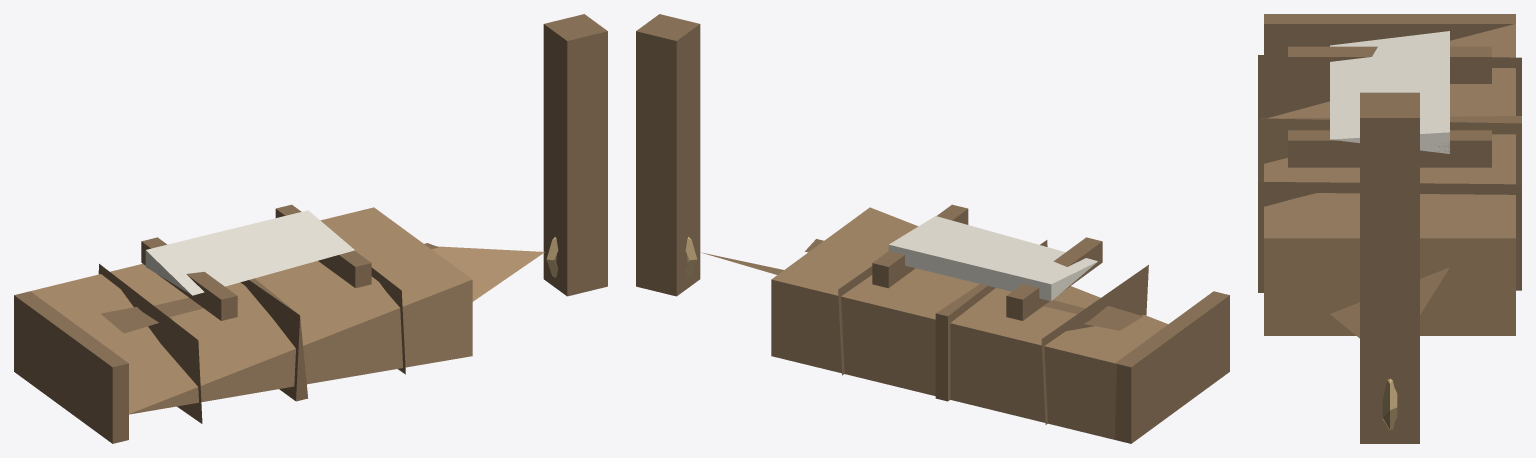
The model's file is 40-Infraestructura_bote_pesca.glb.
3 views of the same model, side by side, from view 1: azimuth 30°, elevation 25°; view 2: azimuth 150°, elevation 25°; view 3: azimuth 270°, elevation 25° (orthographic). The views are drawn at different scales.
Parts seen in each view (by area): view 1: SM_Bote_M_Madera_Bote, SM_Bote_M_Madera_Bote_Osc, SM_Bote_M_Tela_Bote; view 2: SM_Bote_M_Madera_Bote, SM_Bote_M_Madera_Bote_Osc, SM_Bote_M_Tela_Bote; view 3: SM_Bote_M_Madera_Bote_Osc, SM_Bote_M_Madera_Bote, SM_Bote_M_Tela_Bote, SM_Bote_M_Cuerda_Bote.
Part boxes in pixels (<box>): SM_Bote_M_Madera_Bote: <box>29,207,544,414</box>; SM_Bote_M_Madera_Bote_Osc: <box>14,14,607,443</box>; SM_Bote_M_Tela_Bote: <box>145,210,354,295</box>; SM_Bote_M_Madera_Bote: <box>700,207,1168,439</box>; SM_Bote_M_Madera_Bote_Osc: <box>636,14,1229,443</box>; SM_Bote_M_Tela_Bote: <box>888,216,1097,301</box>; SM_Bote_M_Madera_Bote_Osc: <box>1258,14,1521,443</box>; SM_Bote_M_Madera_Bote: <box>1264,23,1515,338</box>; SM_Bote_M_Tela_Bote: <box>1330,31,1449,153</box>; SM_Bote_M_Cuerda_Bote: <box>1382,379,1397,430</box>.
Size of the model in its own units: 1.33 by 0.6 by 0.44.
